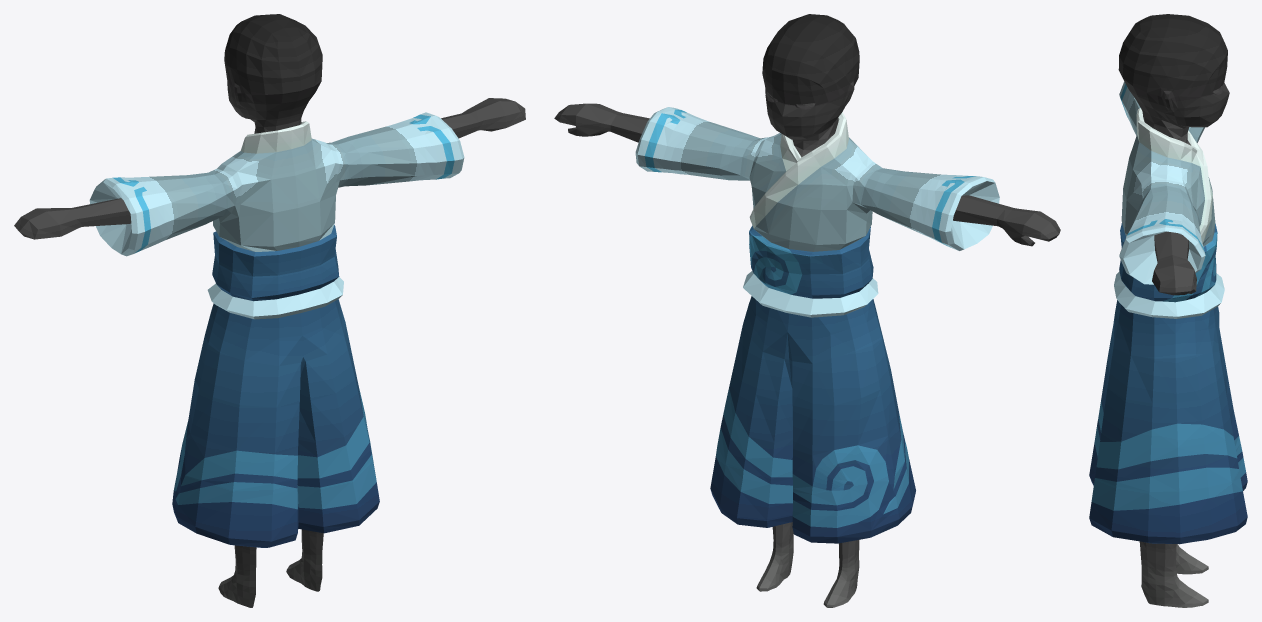
File: CharSkyKid_Body_OceanWaves.glb
3 views of the same model, side by side, from view 1: azimuth 30°, elevation 25°; view 2: azimuth 150°, elevation 25°; view 3: azimuth 270°, elevation 25° (orthographic).
Parts seen in each view (by area): view 1: CharSkyKid_Body_OceanWaves; view 2: CharSkyKid_Body_OceanWaves; view 3: CharSkyKid_Body_OceanWaves.
Boxes of the visible parts, x1,y1,x2,y2 form: CharSkyKid_Body_OceanWaves: (14, 14, 525, 607); CharSkyKid_Body_OceanWaves: (554, 14, 1060, 607); CharSkyKid_Body_OceanWaves: (1089, 14, 1247, 607).
Size of the model in its own units: 13.83 by 14.94 by 3.78.
Materials: 1 (1 with a texture image).
